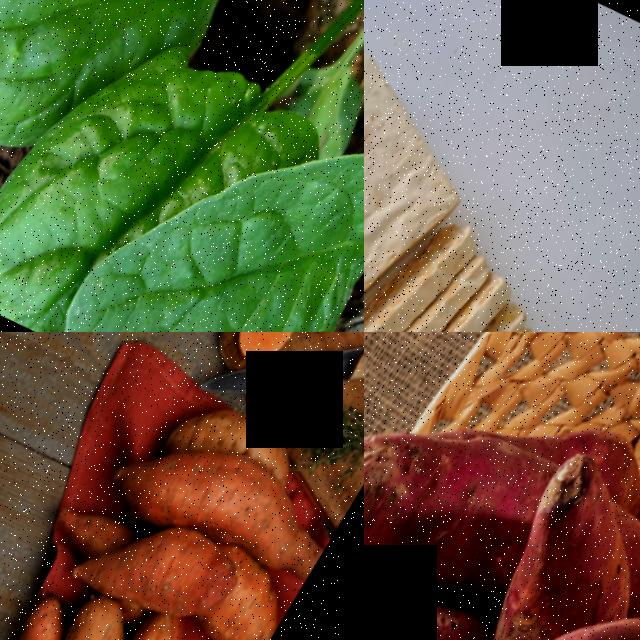spinach: (0, 11, 258, 332), (65, 110, 364, 332), (0, 0, 302, 206)
sweet potato: (364, 382, 569, 628), (479, 446, 640, 640), (229, 332, 319, 379)
tempeh: (364, 16, 498, 332), (364, 217, 549, 332)
tofu: (99, 407, 364, 609), (75, 490, 269, 640), (50, 593, 160, 640), (0, 592, 97, 640), (65, 614, 225, 640)
